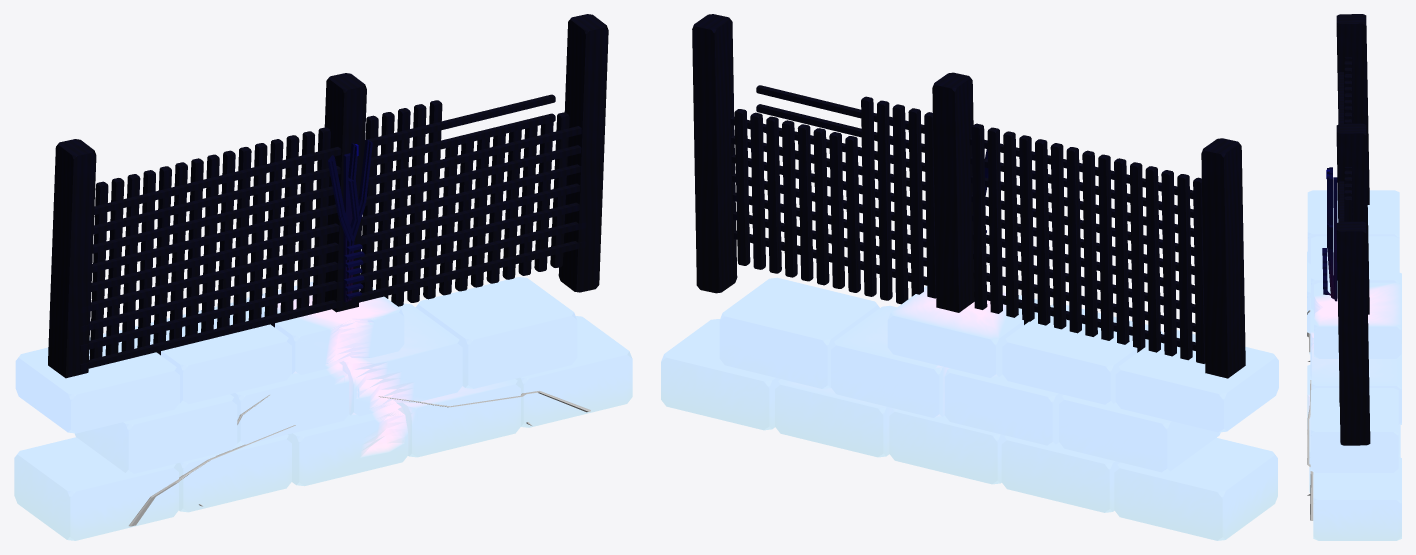
File: cataclysm_fen_wall_struck-lod2.gltf
3 views of the same model, side by side, from view 1: azimuth 30°, elevation 25°; view 2: azimuth 150°, elevation 25°; view 3: azimuth 270°, elevation 25° (orthographic). The views are drawn at different scales.
Parts seen in each view (by area): view 1: cataclysm_fen_wall_struck LOD2 cataclysm_fen_wall_struck, cataclysm_fen_wall_struck LOD2 cataclysm_fen_wall roots atta; view 2: cataclysm_fen_wall_struck LOD2 cataclysm_fen_wall_struck; view 3: cataclysm_fen_wall_struck LOD2 cataclysm_fen_wall_struck, cataclysm_fen_wall_struck LOD2 cataclysm_fen_wall roots atta.
Boxes of the visible parts, bbox=[...] form: cataclysm_fen_wall_struck LOD2 cataclysm_fen_wall_struck: bbox=[14, 14, 632, 540]; cataclysm_fen_wall_struck LOD2 cataclysm_fen_wall roots atta: bbox=[129, 391, 590, 526]; cataclysm_fen_wall_struck LOD2 cataclysm_fen_wall_struck: bbox=[661, 14, 1278, 540]; cataclysm_fen_wall_struck LOD2 cataclysm_fen_wall_struck: bbox=[1307, 14, 1401, 540]; cataclysm_fen_wall_struck LOD2 cataclysm_fen_wall roots atta: bbox=[1307, 310, 1313, 520].
Size of the model in its own units: 2.73 by 1.71 by 0.4792.
